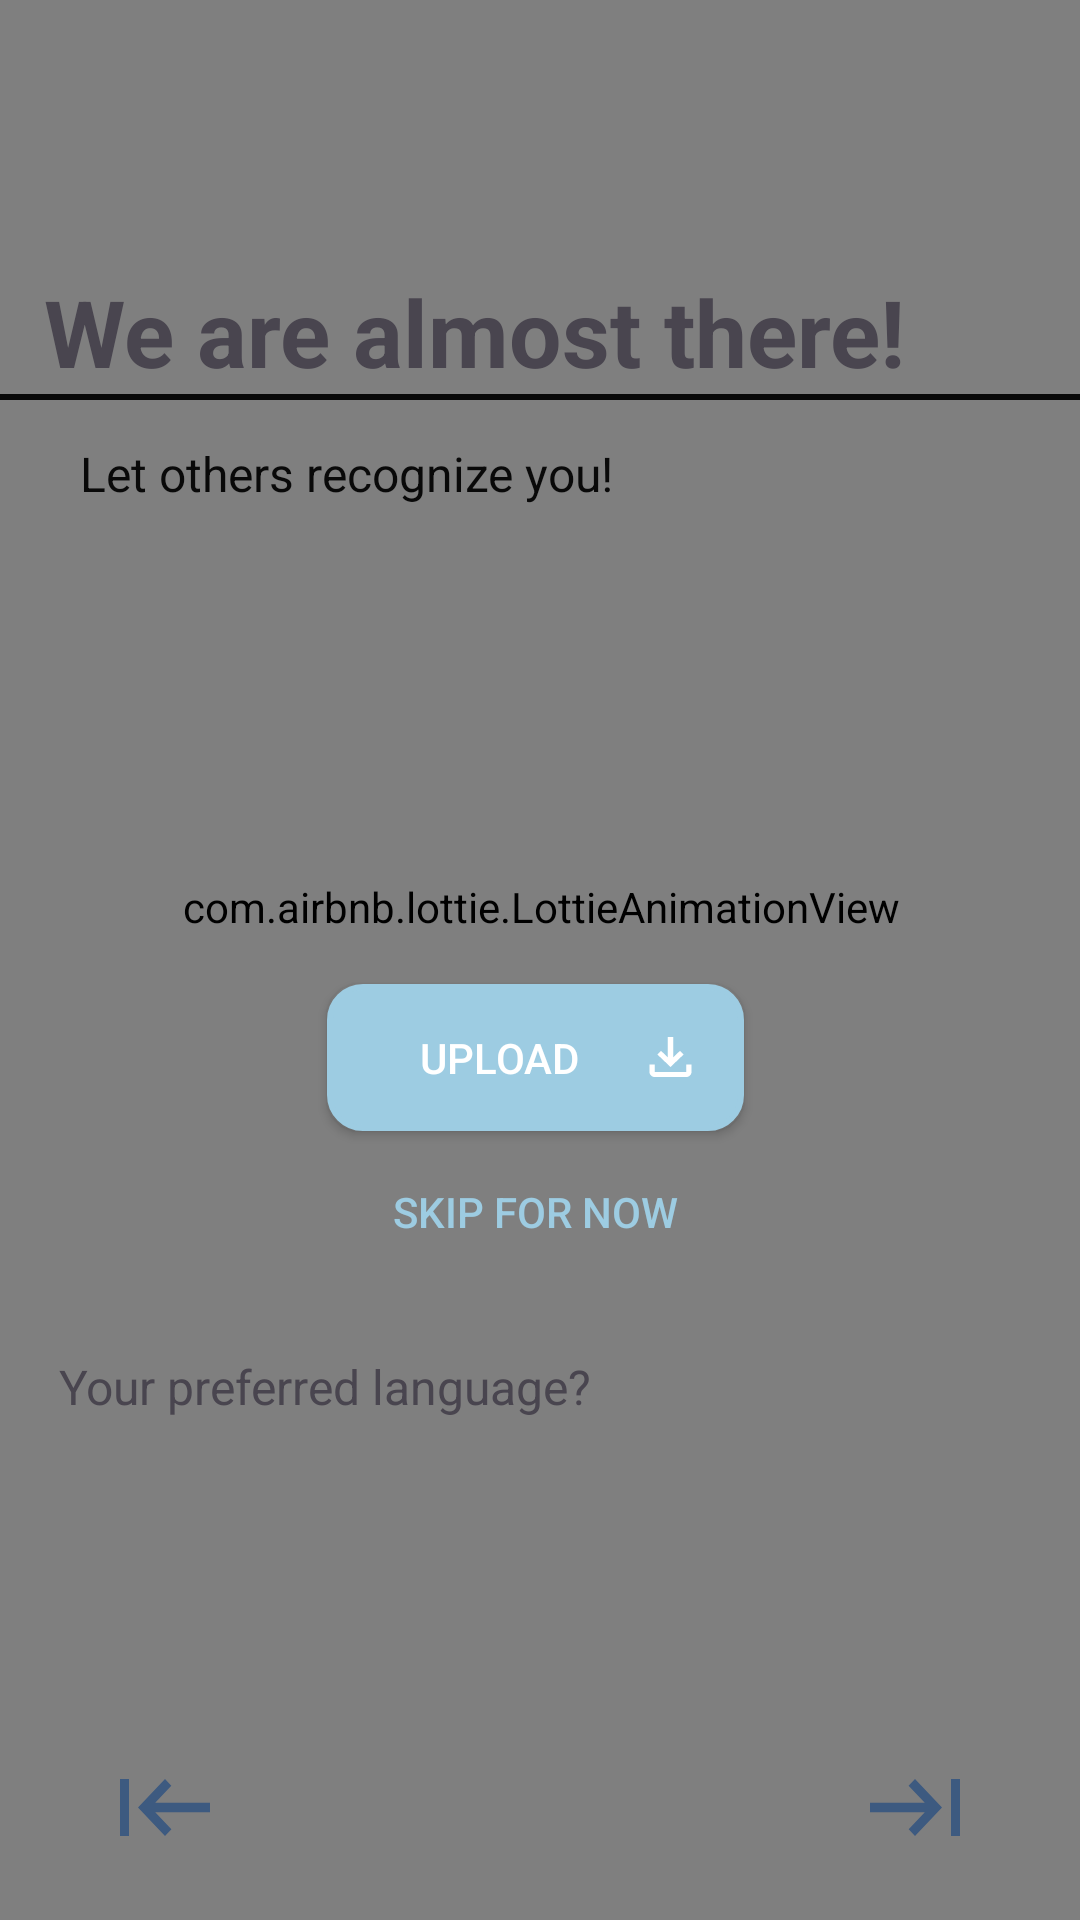

Icons on this 1080x1920 Android screen, each with its box as (x1=x1, y1=y1, x2=x2, y2=y2):
back: (x1=120, y1=1779, x2=210, y2=1836)
next: (x1=870, y1=1779, x2=960, y2=1836)
